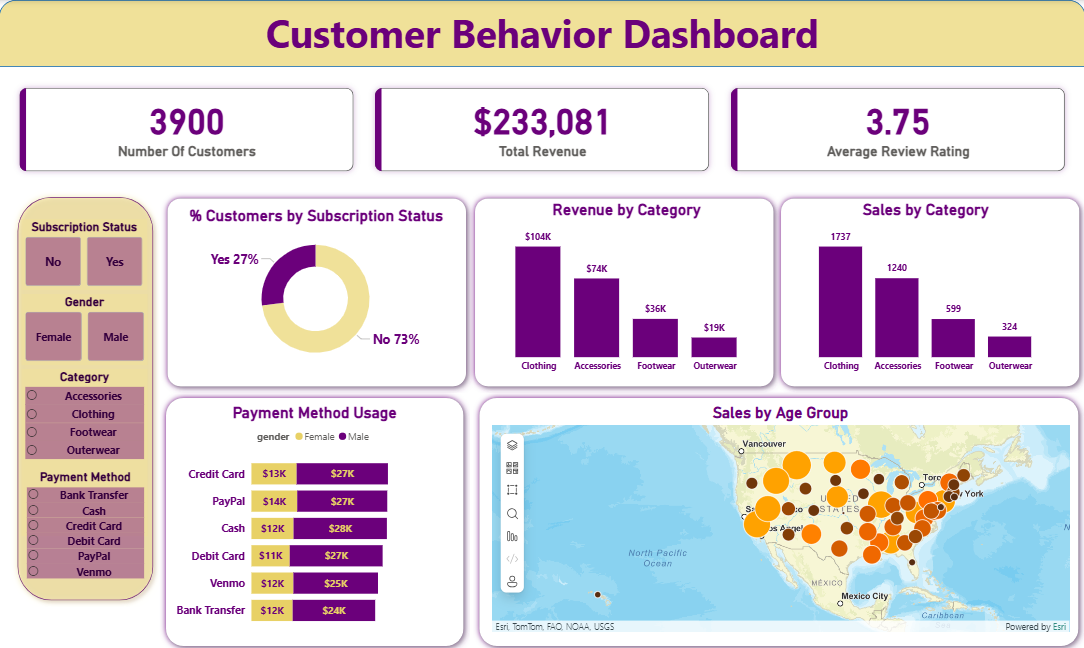

The dashboard page shown, as its layout file describes it:
{"tool":"powerbi","page":{"name":"Page 1","canvas":[1500,900],"ordinal":0},"visuals":[{"type":"cardVisual","fields":{"Data":["customer_behavior customer.Number Of Customers","Sum(customer_behavior customer.purchase_amount)","customer_behavior customer.Average Review Rating"]},"box":[0,92.4,1499.8,171.7],"z":0},{"type":"shape","box":[0,0,1499.8,92.4],"z":1000},{"type":"textbox","title":"Customer Behavior Dashboard","box":[245.3,7.5,1011.2,77.3],"z":2000},{"type":"shape","box":[1070,264.1,430,277.3],"z":3000},{"type":"shape","box":[222.6,264.1,430.1,277.3],"z":4000},{"type":"shape","box":[647.1,264.1,430.1,277.3],"z":6000},{"type":"shape","box":[654.3,540.4,844.8,360.3],"z":7000},{"type":"shape","box":[221.6,540.4,428.6,360.3],"z":9000},{"type":"clusteredColumnChart","title":"Revenue by Category","fields":{"Y":["Sum(customer_behavior customer.purchase_amount)"],"Category":["customer_behavior customer.category"]},"box":[675.4,277.3,383,245.3],"z":10000},{"type":"clusteredColumnChart","title":"Sales by Category","fields":{"Category":["customer_behavior customer.category"],"Y":["CountNonNull(customer_behavior customer.customer_id)"]},"box":[1096.1,277.3,367.9,245.3],"z":11000},{"type":"shape","box":[15.6,262,205.3,574.9],"z":12000},{"type":"advancedSlicerVisual","title":"Subscription Status","fields":{"Values":["customer_behavior customer.subscription_status"]},"box":[32.1,301.8,173.6,98.1],"z":13000},{"type":"advancedSlicerVisual","title":"Gender","fields":{"Values":["customer_behavior customer.gender"]},"box":[31.3,406.8,174,97.8],"z":14000},{"type":"listSlicer","title":"Category","fields":{"Values":["customer_behavior customer.category"]},"box":[31.3,508.4,174,230.8],"z":14001},{"type":"listSlicer","title":"Payment Method","fields":{"Values":["customer_behavior customer.payment_method"]},"box":[33.2,647.3,172.1,199.5],"z":14002},{"type":"barChart","title":"Payment Method Usage","fields":{"Category":["customer_behavior customer.payment_method"],"Y":["Sum(customer_behavior customer.purchase_amount)"],"Series":["customer_behavior customer.gender"]},"box":[238.1,557,395.5,320.9],"z":14003},{"type":"esriVisual","title":"Sales by Age Group","fields":{"Location":["customer_behavior customer.location"],"Size":["Sum(customer_behavior customer.purchase_amount)"],"Color":["Sum(customer_behavior customer.purchase_amount)"]},"box":[675,557,807.5,320.9],"z":14004},{"type":"donutChart","title":"% Customers by Subscription Status","fields":{"Category":["customer_behavior customer.subscription_status"],"Y":["CountNonNull(customer_behavior customer.customer_id)"]},"box":[250.9,281.1,373.5,237.7],"z":14005}]}

Visuals, with their boxes in screenshot pixels (x1, y1, x2, y2), scaled from the page's 1500x900 canvas onto the 1084x648 screenshot:
cardVisual - customer_behavior customer.Number Of Customers x Sum(customer_behavior customer.purchase_amount): 0, 67, 1083, 190
shape: 0, 0, 1083, 67
"Customer Behavior Dashboard" textbox: 177, 5, 908, 61
shape: 773, 190, 1083, 390
shape: 161, 190, 472, 390
shape: 468, 190, 778, 390
shape: 473, 389, 1083, 647
shape: 160, 389, 470, 647
"Revenue by Category" clusteredColumnChart: 488, 200, 765, 376
"Sales by Category" clusteredColumnChart: 792, 200, 1058, 376
shape: 11, 189, 160, 603
"Subscription Status" advancedSlicerVisual: 23, 217, 149, 288
"Gender" advancedSlicerVisual: 23, 293, 148, 363
"Category" listSlicer: 23, 366, 148, 532
"Payment Method" listSlicer: 24, 466, 148, 610
"Payment Method Usage" barChart: 172, 401, 458, 632
"Sales by Age Group" esriVisual: 488, 401, 1071, 632
"% Customers by Subscription Status" donutChart: 181, 202, 451, 374
